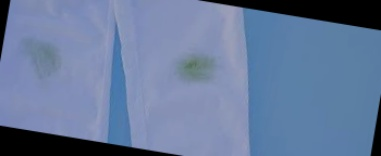earth: (26, 45, 65, 76), (175, 54, 210, 84)
